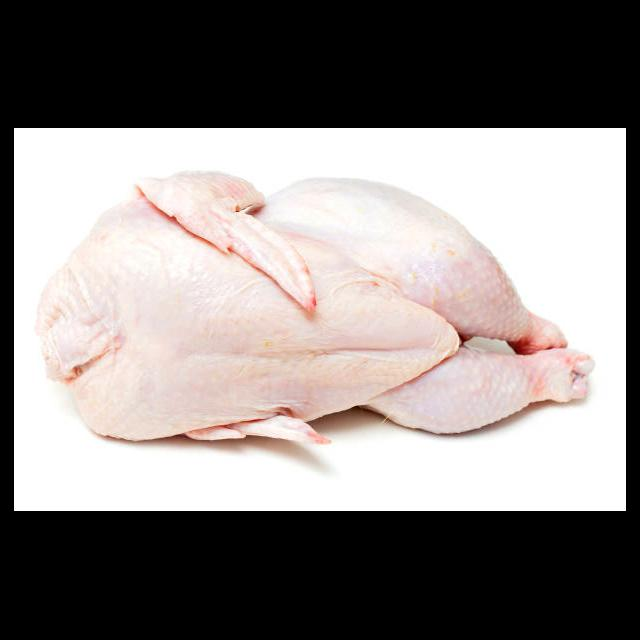chicken: (39, 168, 596, 450)
